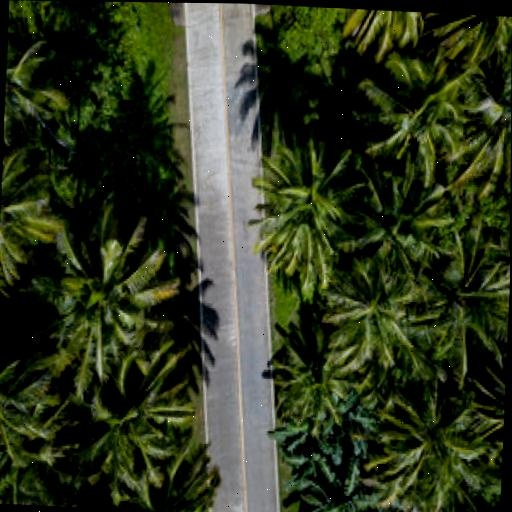tree-top: (251, 140, 360, 285), (48, 236, 150, 374), (83, 385, 182, 498), (415, 252, 510, 368), (382, 383, 478, 493), (370, 70, 453, 180), (333, 260, 413, 370), (358, 178, 444, 269), (275, 314, 354, 413), (279, 396, 369, 482), (3, 26, 54, 143), (0, 145, 43, 278), (458, 64, 512, 169), (332, 7, 429, 57), (429, 12, 512, 67), (0, 353, 39, 460), (308, 455, 380, 512)
